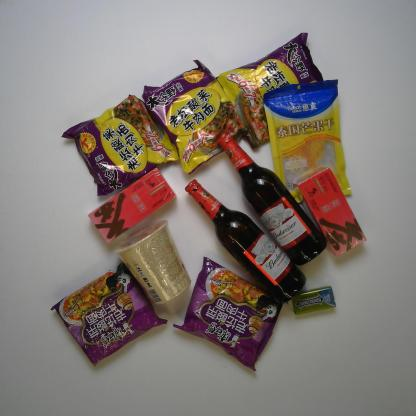Alcohol: (181, 179, 308, 302), (217, 126, 327, 267)
Dried Fruit: (260, 77, 353, 204)
Gum: (290, 284, 336, 317)
Instant Drink: (293, 166, 371, 261), (84, 170, 180, 245)
Instant Noodles: (212, 31, 334, 150), (173, 253, 289, 373), (140, 60, 257, 176), (61, 94, 184, 197), (51, 262, 168, 368), (110, 216, 197, 312)
